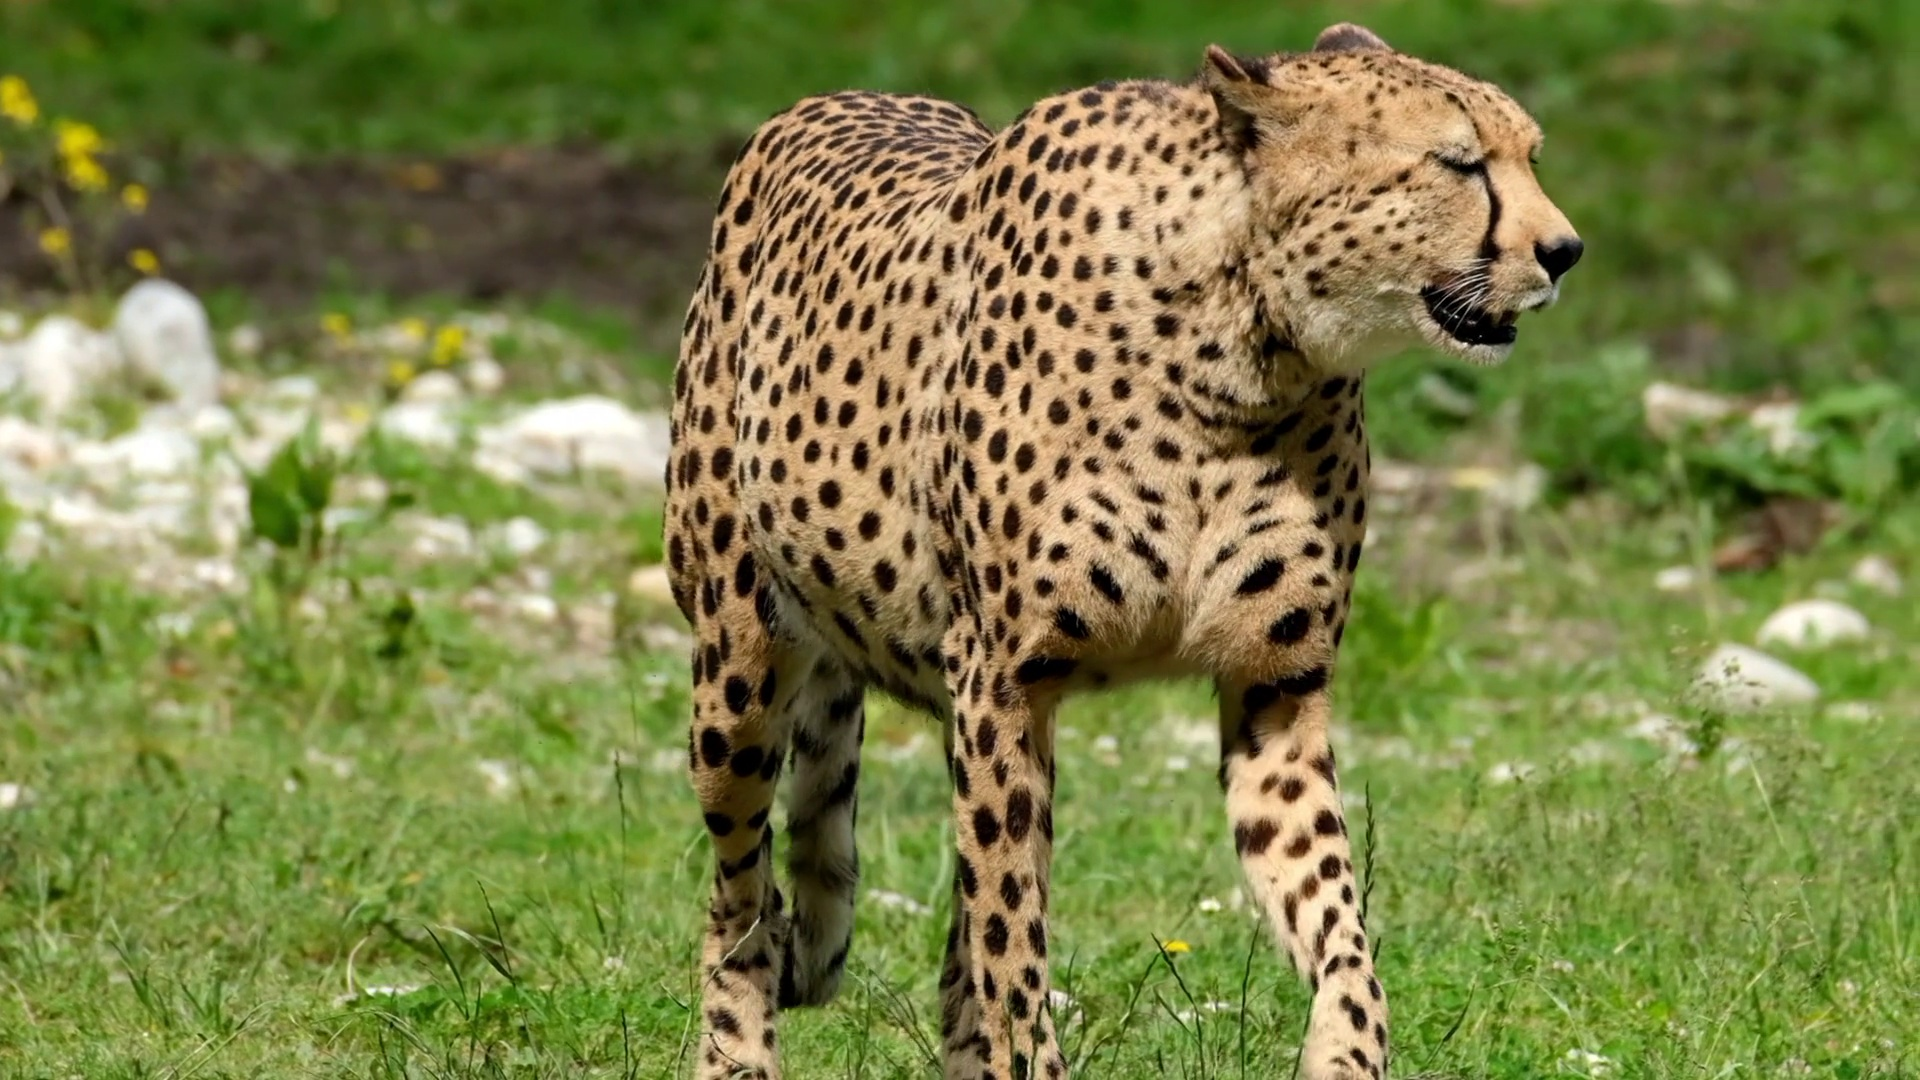Cheetah: (655, 17, 1586, 1080)
